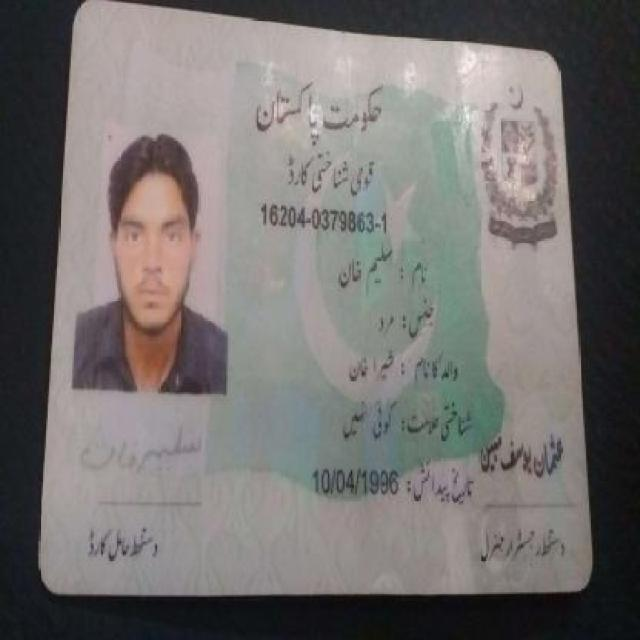Front: (57, 6, 591, 597)
